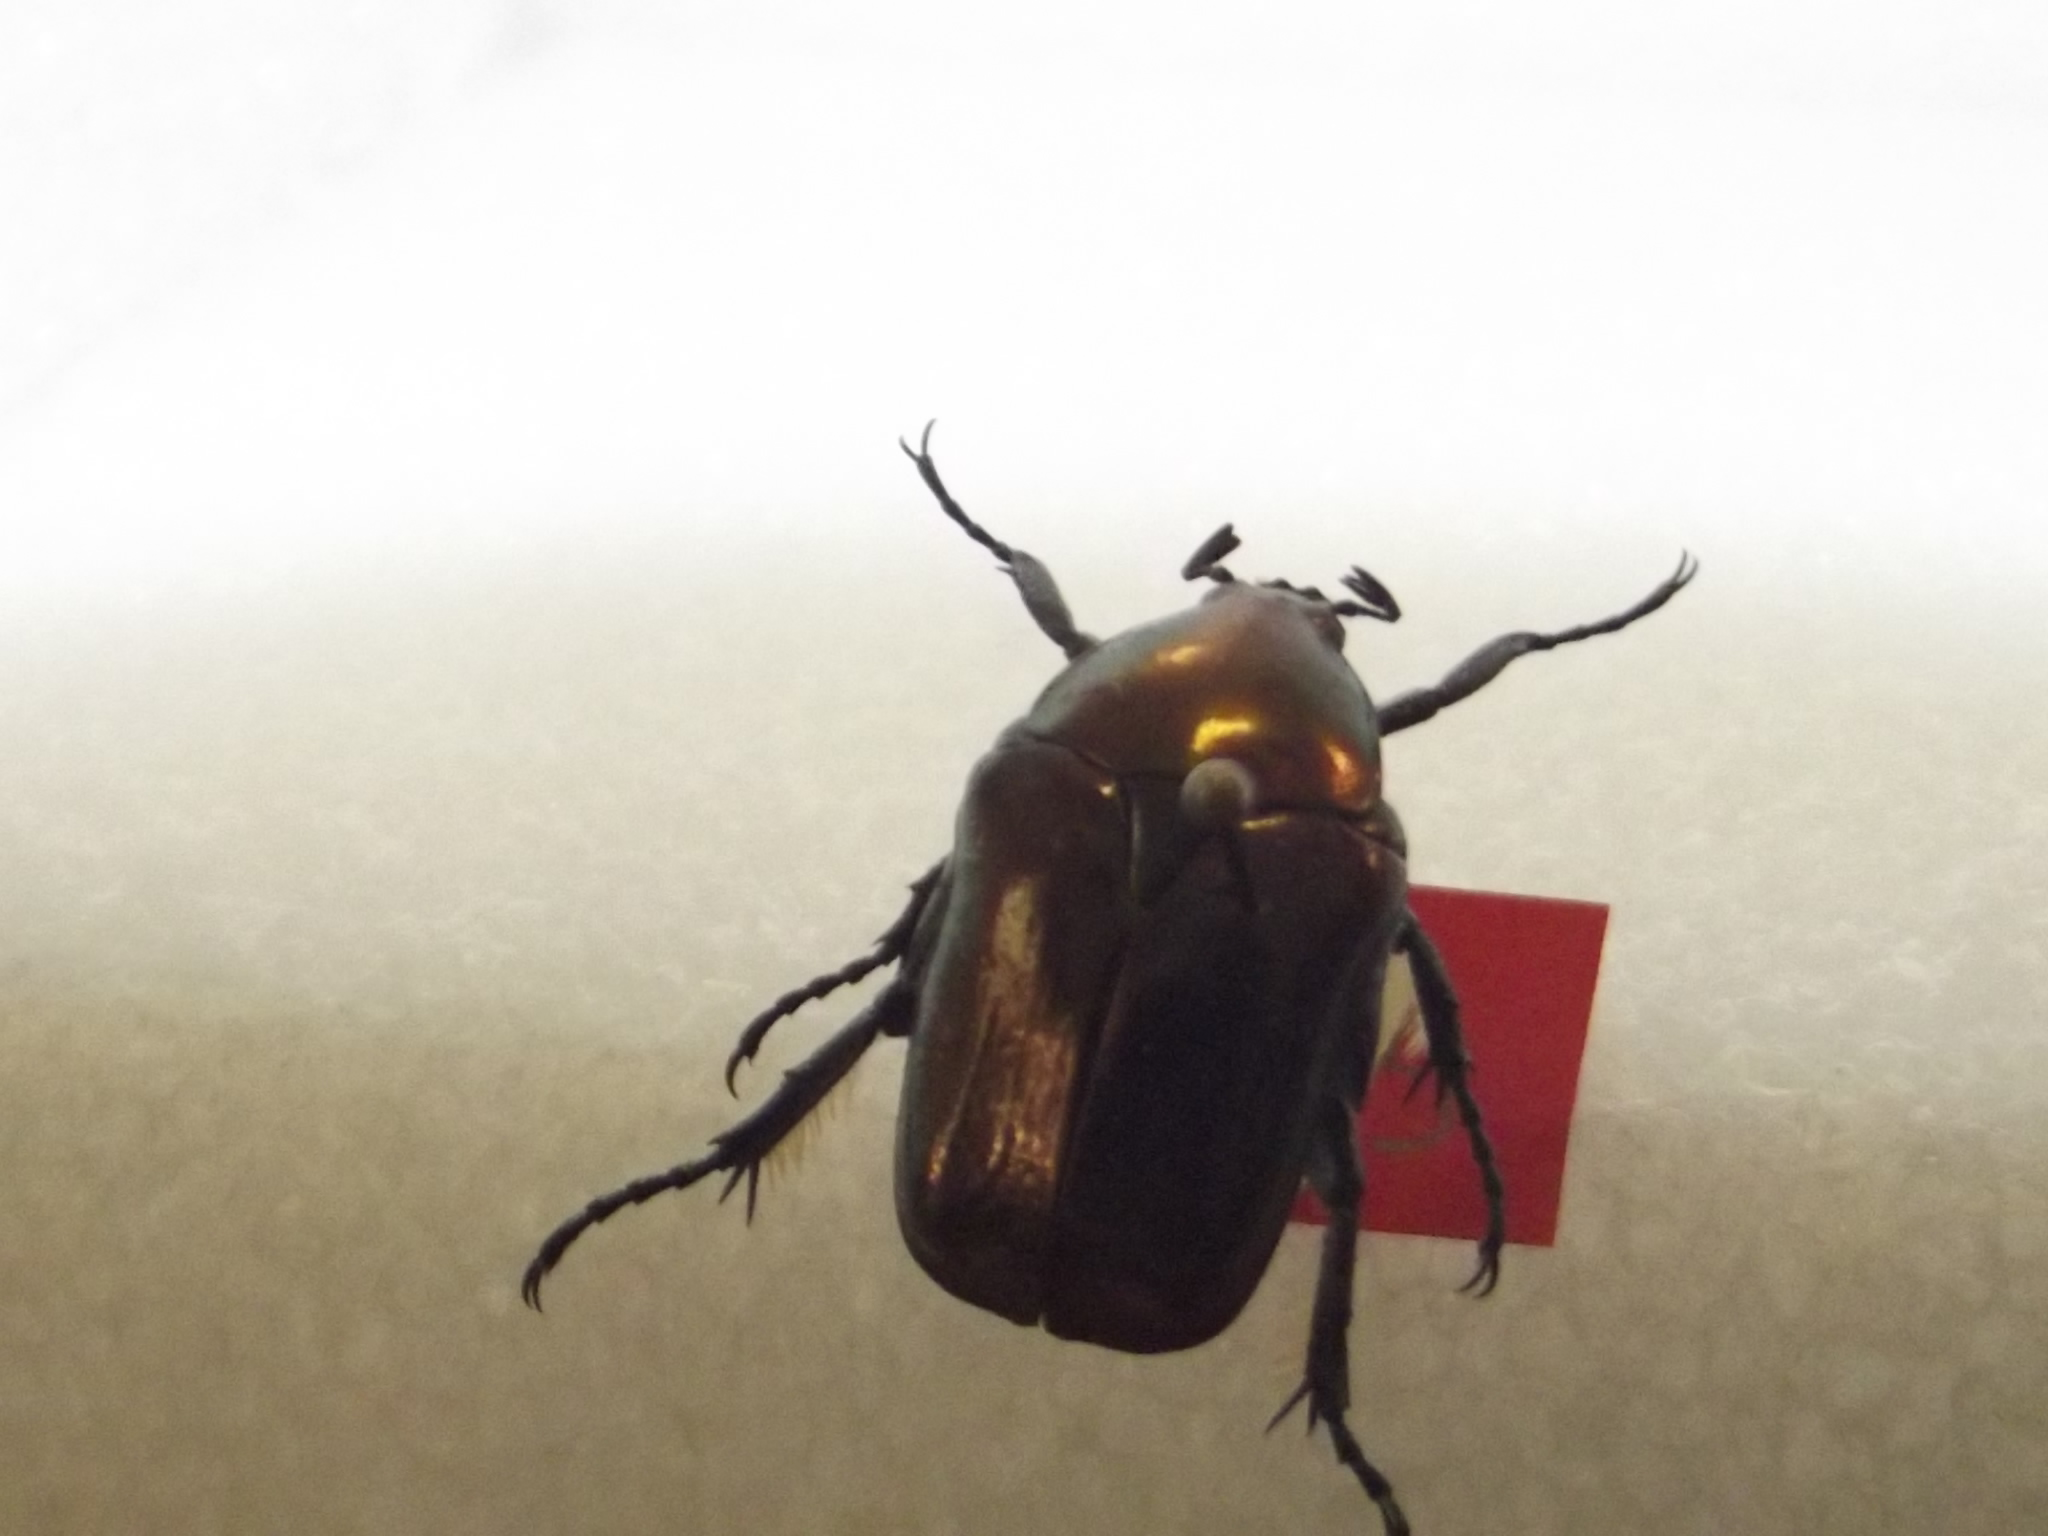Protaetia_besucheti: (503, 403, 1719, 1536)
